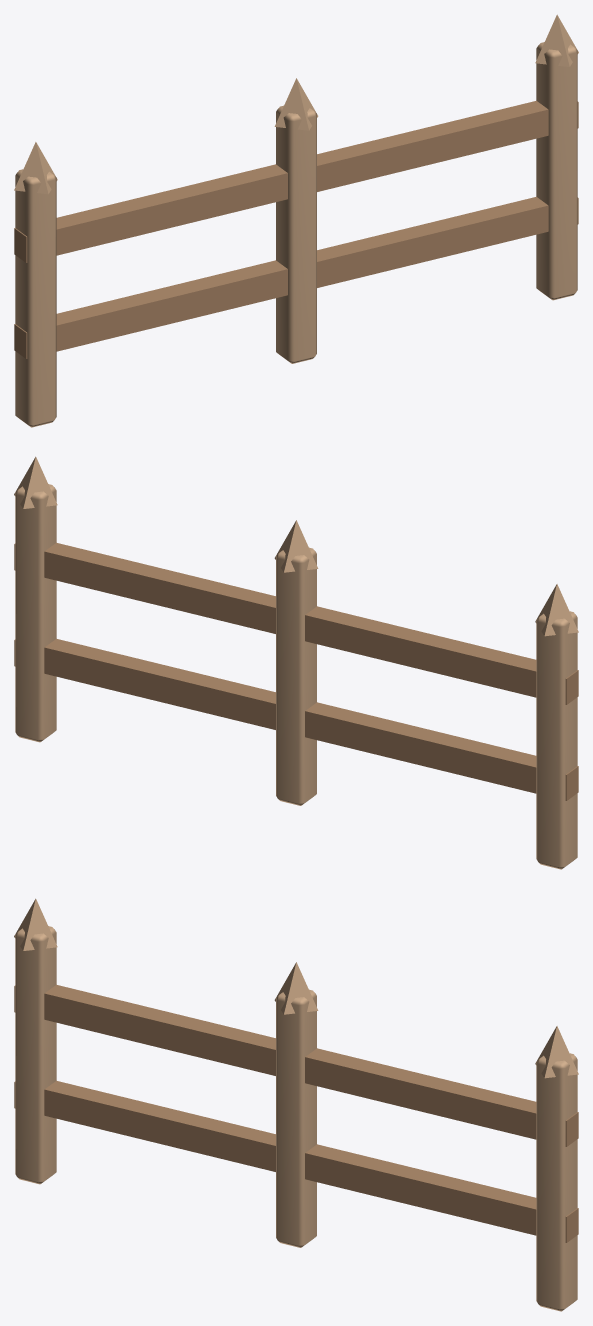
The model's file is garden-fence.glb.
The picture shows the model from 3 angles, top to bottom: view 1: azimuth 30°, elevation 25°; view 2: azimuth 150°, elevation 25°; view 3: azimuth 330°, elevation 25°; orthographic projection.
Visible parts, largest first — view 1: Fence rail, Fence rail.001, Fence post, Fence post.002, Fence post.001, Picket cap.002, Picket cap, Picket cap.001; view 2: Fence rail, Fence rail.001, Fence post, Fence post.002, Fence post.001, Picket cap.002, Picket cap, Picket cap.001; view 3: Fence rail, Fence rail.001, Fence post.002, Fence post, Fence post.001, Picket cap, Picket cap.002, Picket cap.001.
Part boxes in pixels (<box>): Fence rail: <box>14,196,578,358</box>; Fence rail.001: <box>14,100,578,262</box>; Fence post: <box>15,169,56,427</box>; Fence post.002: <box>536,42,577,300</box>; Fence post.001: <box>276,105,316,363</box>; Picket cap.002: <box>535,14,578,66</box>; Picket cap: <box>14,142,57,194</box>; Picket cap.001: <box>274,78,318,130</box>; Fence rail: <box>14,638,578,800</box>; Fence rail.001: <box>14,542,578,704</box>; Fence post: <box>536,611,577,869</box>; Fence post.002: <box>15,484,56,742</box>; Fence post.001: <box>276,547,316,805</box>; Picket cap.002: <box>14,456,57,508</box>; Picket cap: <box>535,584,578,636</box>; Picket cap.001: <box>274,520,318,572</box>; Fence rail: <box>14,1080,578,1242</box>; Fence rail.001: <box>14,984,578,1146</box>; Fence post.002: <box>536,1053,577,1311</box>; Fence post: <box>15,926,56,1184</box>; Fence post.001: <box>276,989,316,1247</box>; Picket cap: <box>14,898,57,950</box>; Picket cap.002: <box>535,1026,578,1078</box>; Picket cap.001: <box>274,962,318,1014</box>.
Bounding box in the file's own units: 2.71 × 1.28 × 0.21.
